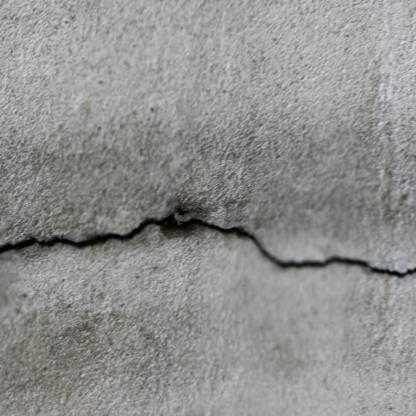crack: (3, 211, 414, 281)
